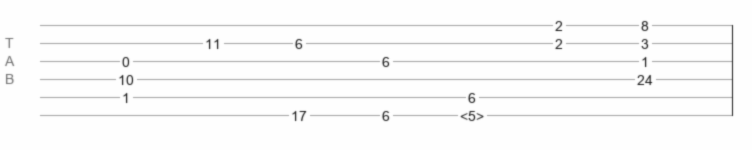0: (122, 54, 130, 64)
1: (122, 90, 130, 100), (641, 54, 649, 64)
10: (118, 72, 134, 82)
11: (205, 36, 221, 46)
17: (291, 108, 307, 118)
2: (555, 36, 563, 46), (555, 18, 563, 28)
24: (637, 72, 653, 82)
3: (641, 36, 649, 46)
6: (295, 36, 303, 46), (382, 108, 390, 118), (382, 54, 390, 64), (468, 90, 476, 100)
8: (641, 18, 649, 28)
harmonic: (460, 108, 484, 118)
